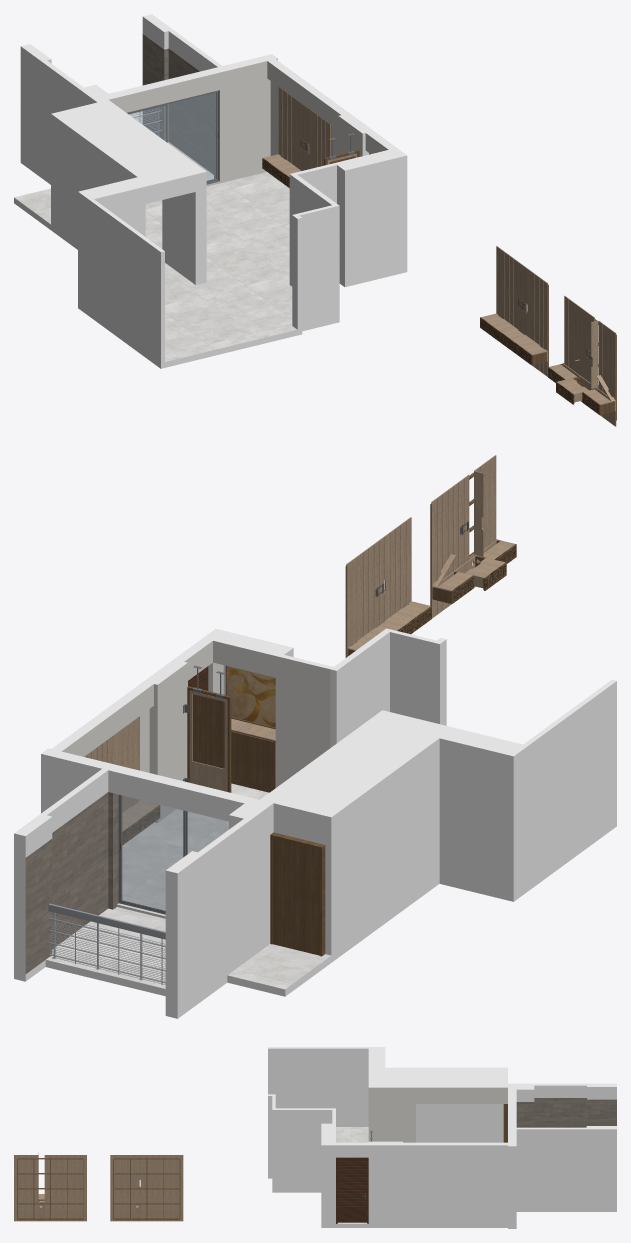
File: option-2.glb
3 renders of one model, top to bottom at view 1: azimuth 30°, elevation 25°; view 2: azimuth 150°, elevation 25°; view 3: azimuth 270°, elevation 25°, orthographic. The views are drawn at different scales.
Parts seen in each view (by area): view 1: Geom3D_ergqergerg, Geom3D (×5), Geom3D_Glass (×2), Geom3D_gahergerg; view 2: Geom3D_ergqergerg, Geom3D (×8), Geom3D_Glass (×4), Geom3D_ (×2), Geom3D_gahergerg, Geom3D_Bottom Rail; view 3: Geom3D_ergqergerg, Geom3D (×28), Geom3D_ (×2), Geom3D_gahergerg.
Boxes of the visible parts, x1,y1,x2,y2 form: Geom3D_ergqergerg: [20, 14, 407, 362]; Geom3D (×5): [14, 17, 598, 389]; Geom3D_Glass (×2): [129, 92, 216, 180]; Geom3D_gahergerg: [14, 157, 407, 368]; Geom3D_ergqergerg: [14, 628, 616, 1011]; Geom3D (×8): [25, 471, 483, 989]; Geom3D_Glass (×4): [122, 732, 273, 910]; Geom3D_ (×2): [270, 832, 325, 956]; Geom3D_gahergerg: [14, 819, 616, 1018]; Geom3D_Bottom Rail: [192, 761, 224, 791]; Geom3D_ergqergerg: [268, 1047, 616, 1224]; Geom3D (×28): [14, 1085, 616, 1223]; Geom3D_ (×2): [17, 1158, 180, 1219]; Geom3D_gahergerg: [268, 1174, 616, 1228].
Bounding box in the file's own units: 7.83 × 3.05 × 20.14.
Materials: 30 (10 with a texture image).
